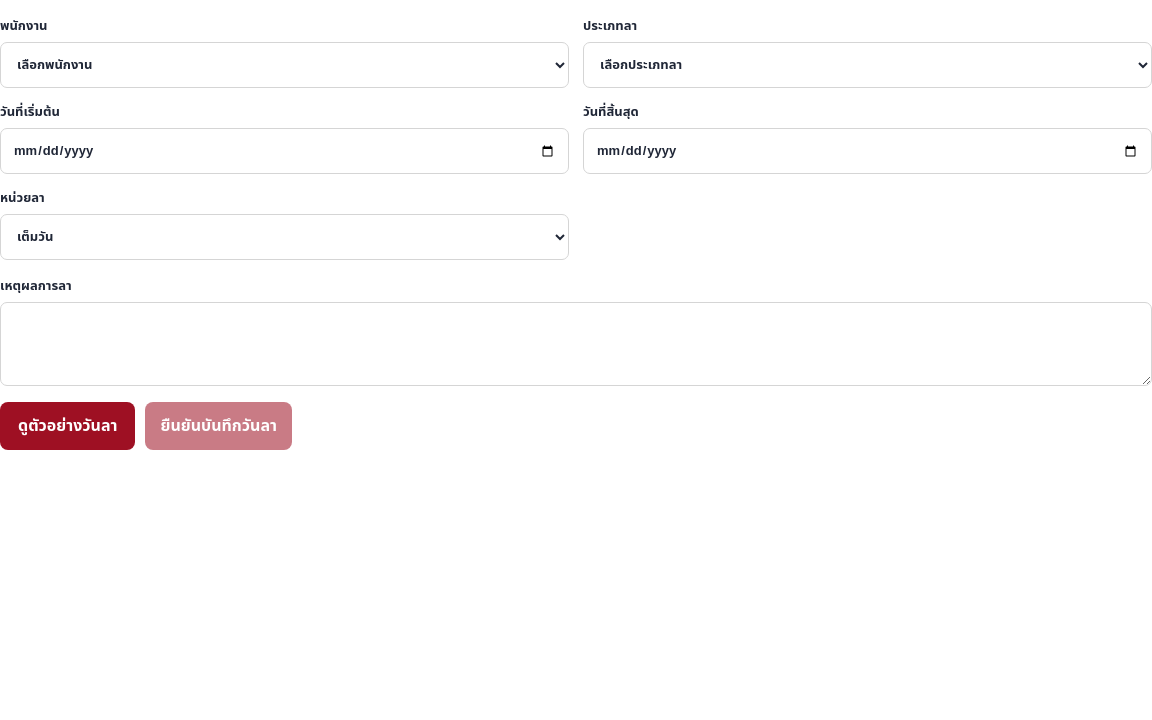
LeaveEntryForm preview gate › invalidates a displayed preview when any leave input changes
The image size is (1152, 720).
Click the button "ดูตัวอย่างวันลา". click: (68, 426)
box: [0, 402, 136, 450]
(page scrolled)
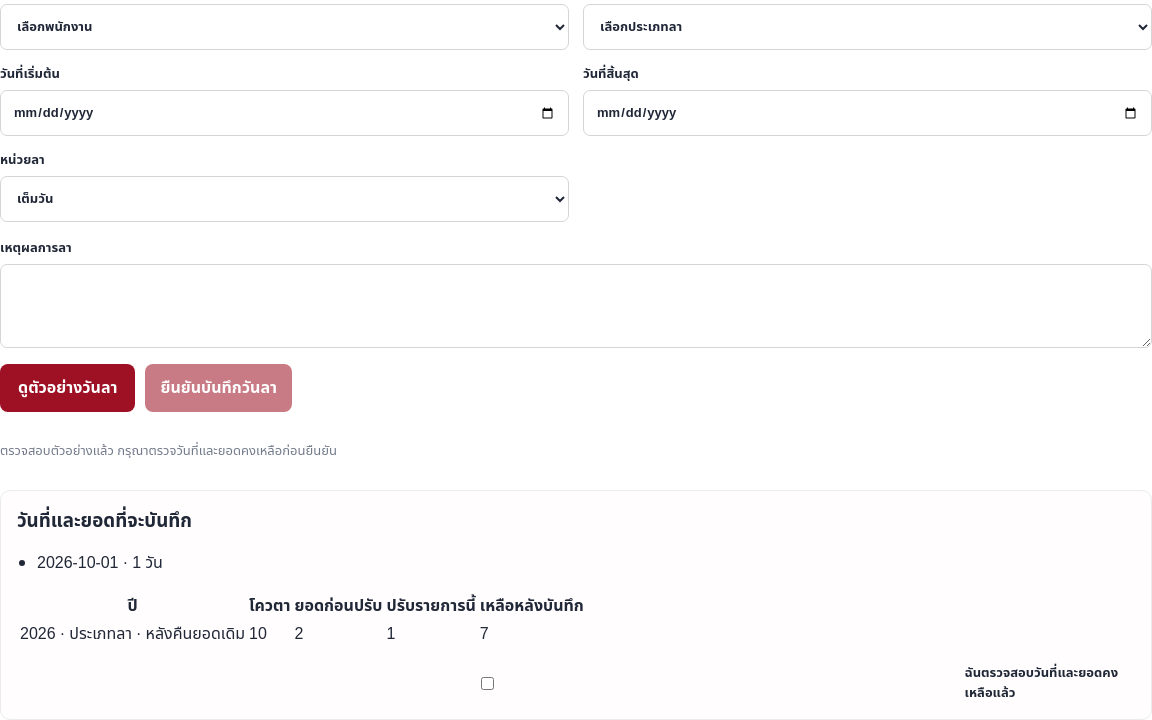
Now the element named "ตัวอย่างวันลา" is shown, box [0, 490, 1151, 719]
Click the checkbox labelled "ฉันตรวจสอบวันที่และยอดคงเหลือแล้ว". click: (487, 683)
box: [21, 676, 954, 690]
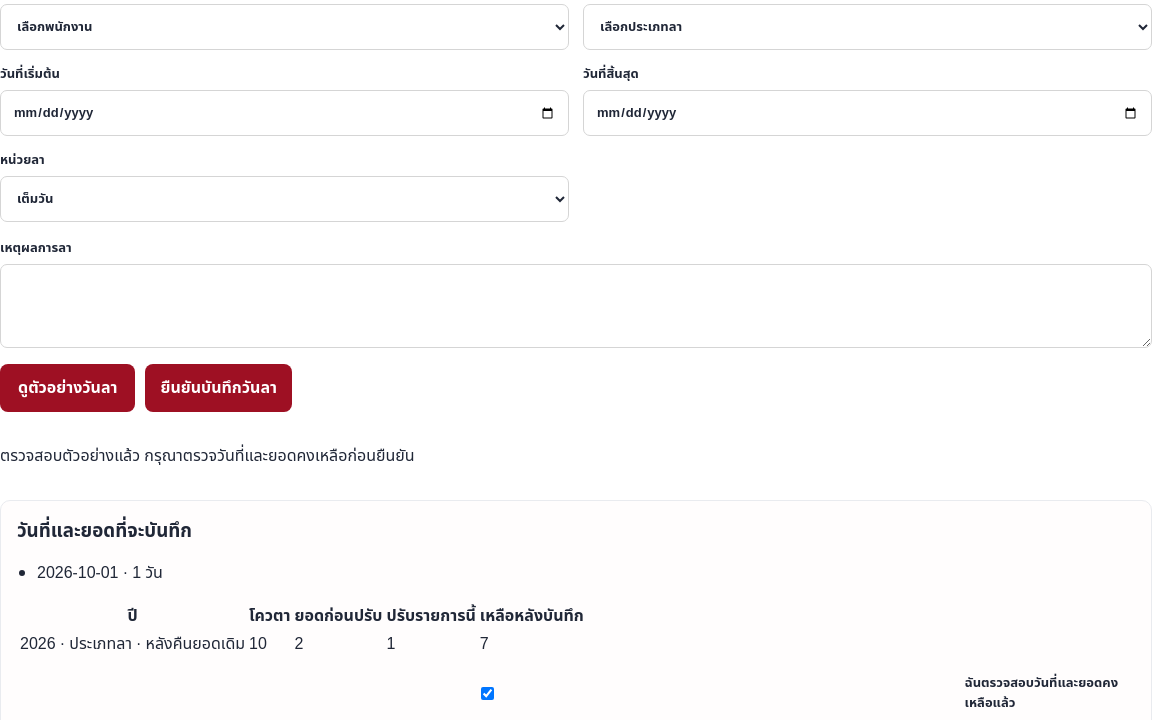
Type "2026-10-03" into the date field labelled "วันที่เริ่มต้น". click: (284, 113)
box: [0, 90, 569, 136]
(page scrolled)
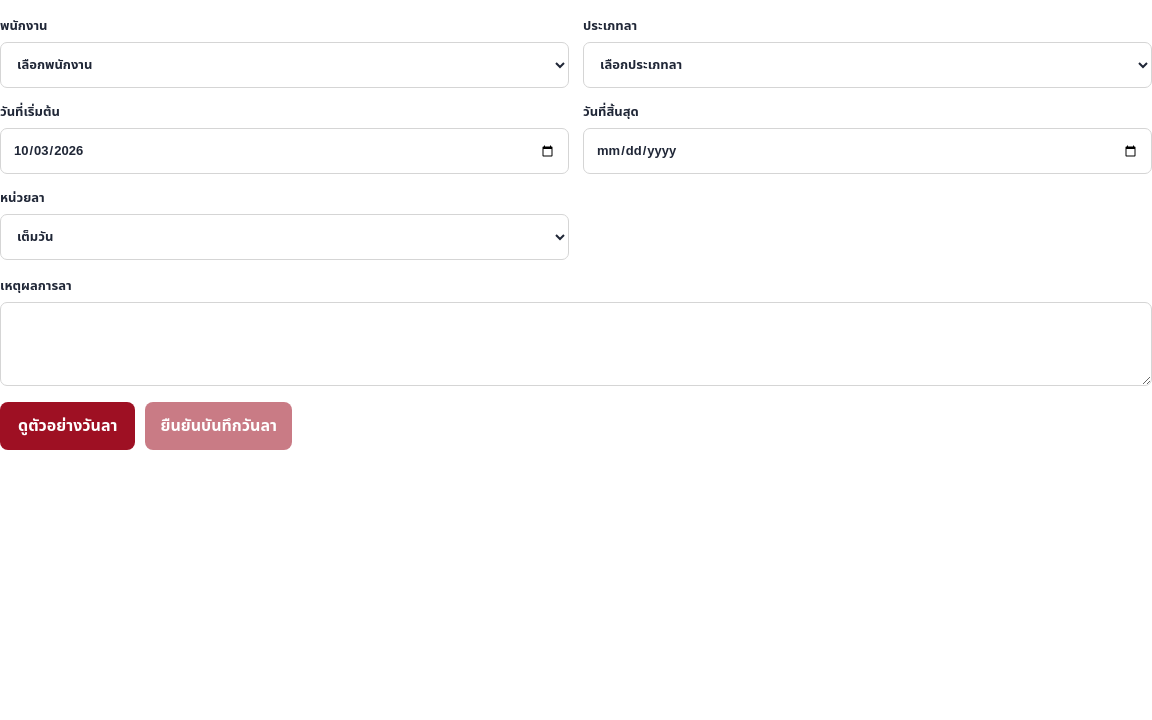
Now the button "ยืนยันบันทึกวันลา" is disabled, box [146, 402, 292, 450]
